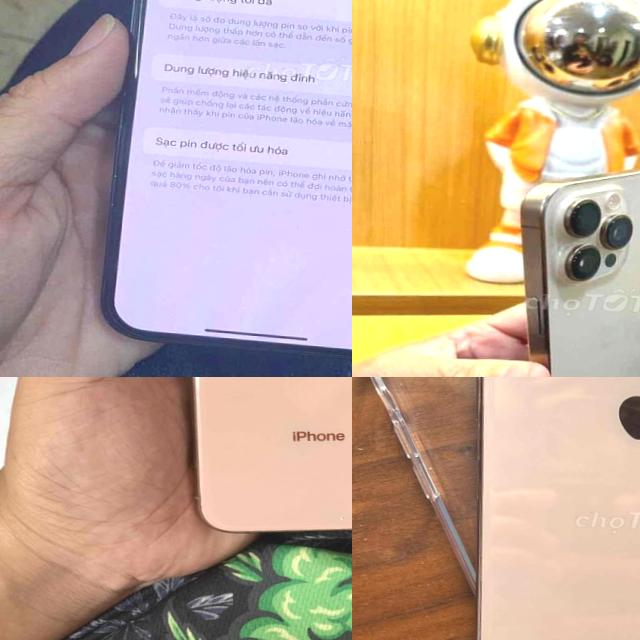scratch: (321, 503, 352, 528)
